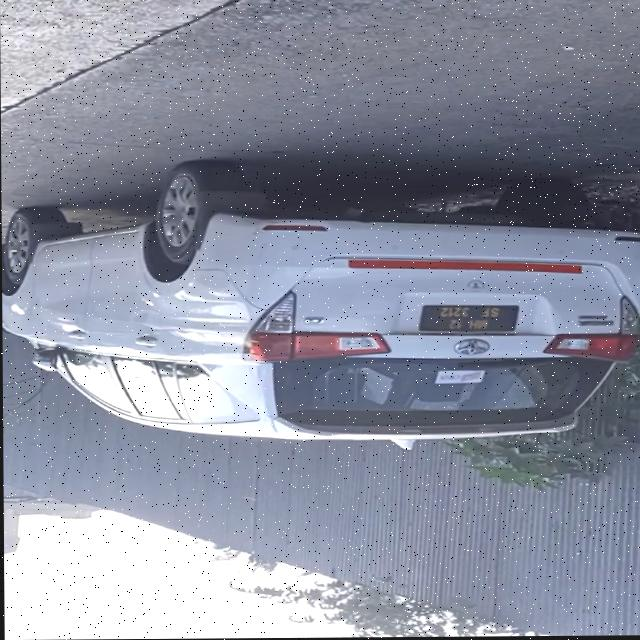plate: (419, 304, 522, 335)
